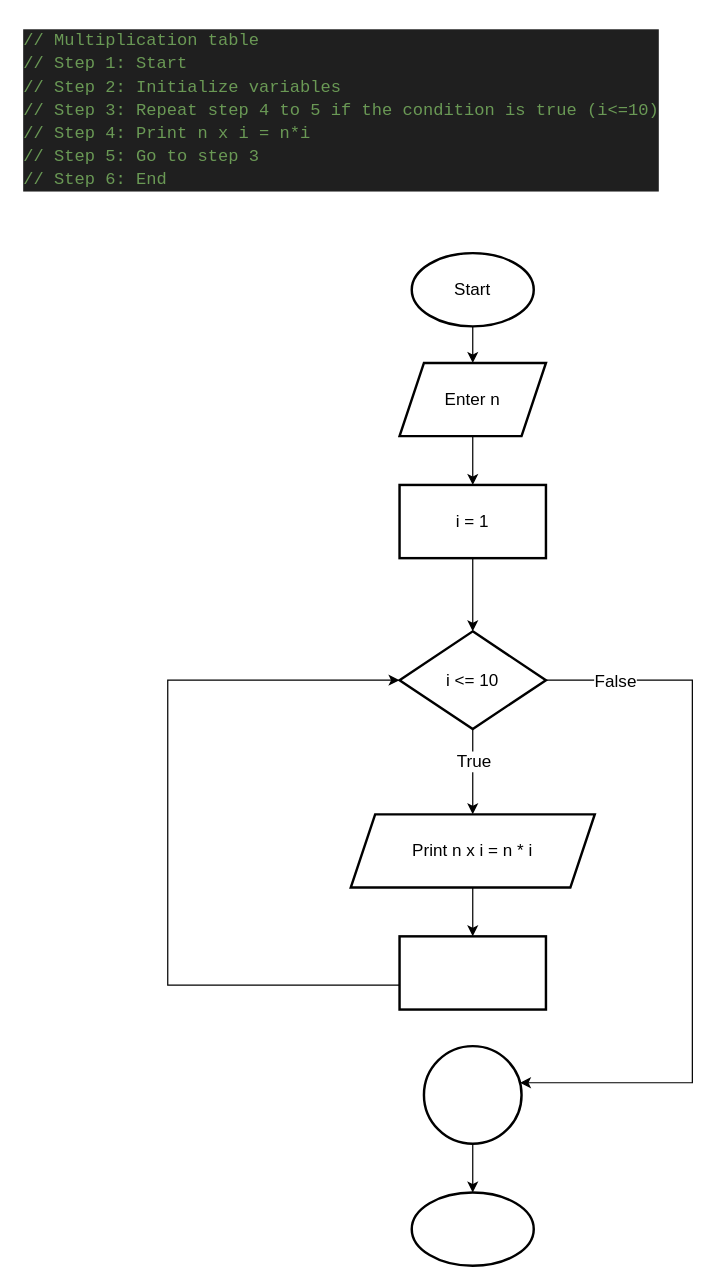
The diagram is 723 pixels wide and 1287 high, and some of its shapes have lost their labels. Here are the shapes that lost their labels. From the top down, the box of each, then its label:
(398, 935, 547, 1010): i++
(410, 1191, 534, 1266): End
